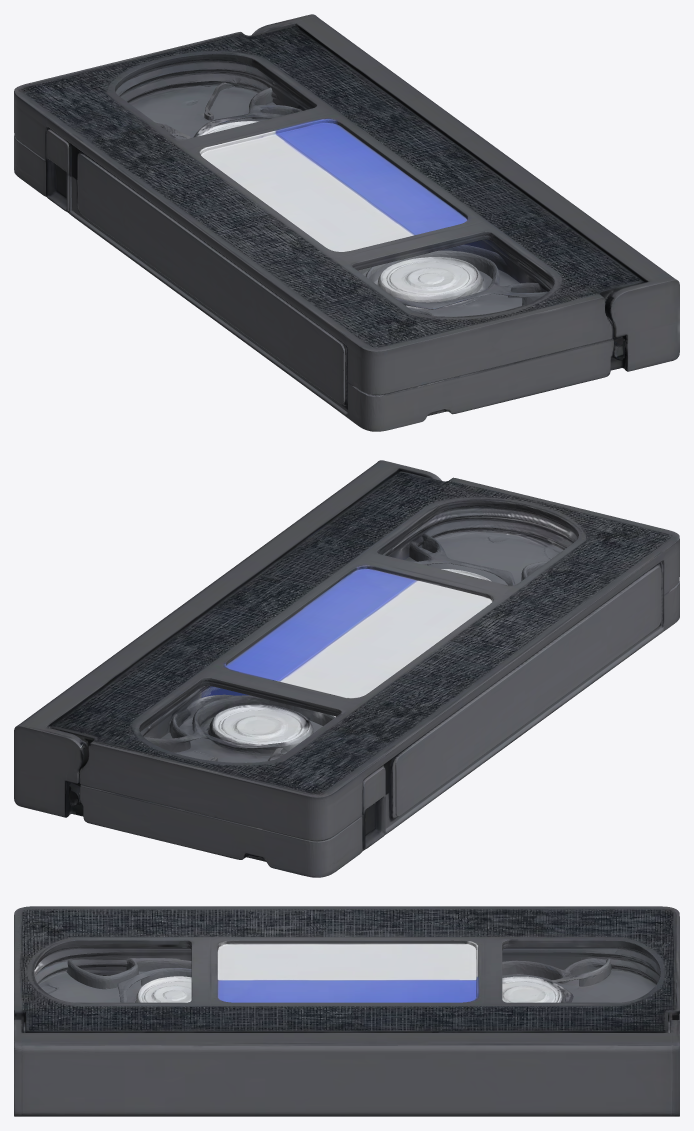
File: cassette the ring.glb
3 renders of one model, top to bottom at view 1: azimuth 30°, elevation 25°; view 2: azimuth 150°, elevation 25°; view 3: azimuth 270°, elevation 25°, orthographic. The views are drawn at different scales.
Parts seen in each view (by area): view 1: node_0; view 2: node_0; view 3: node_0.
Boxes of the visible parts, left/top/right/bottom form: node_0: left=14, top=14, right=679, bottom=431; node_0: left=14, top=460, right=679, bottom=877; node_0: left=14, top=906, right=679, bottom=1116.
Size of the model in its own units: 0.5296 by 0.1318 by 1.07.
1 material, 1 textured.
